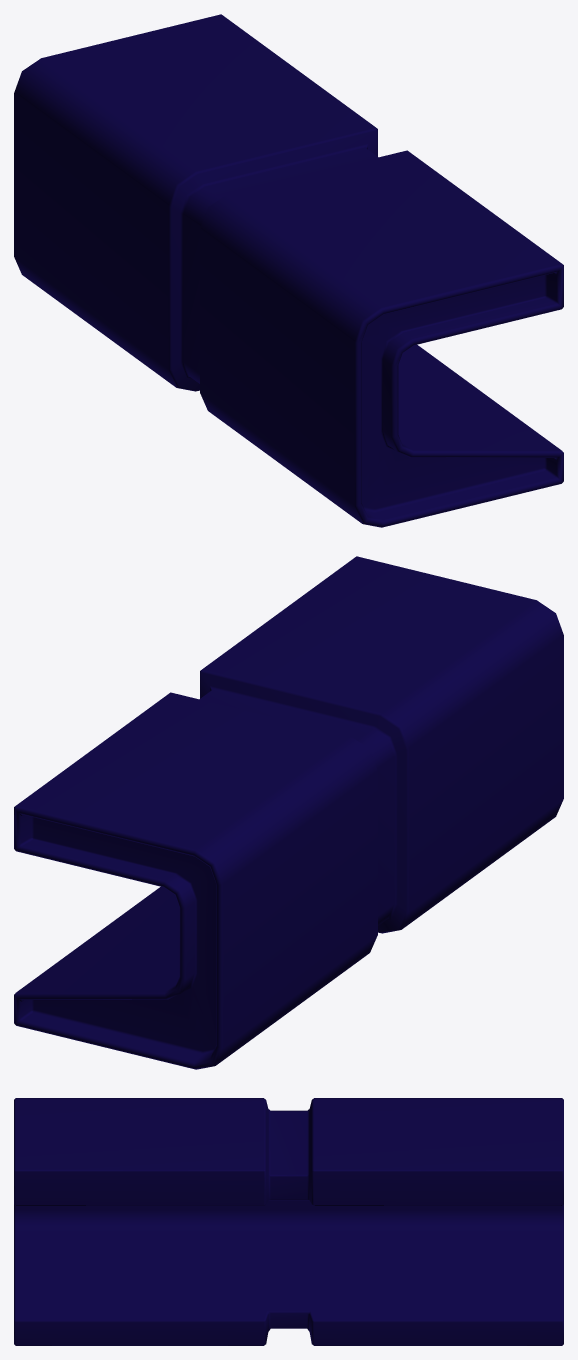
The model's file is Chair.fbx.
3 renders of one model, top to bottom at view 1: azimuth 30°, elevation 25°; view 2: azimuth 150°, elevation 25°; view 3: azimuth 270°, elevation 25°, orthographic. The views are drawn at different scales.
Parts seen in each view (by area): view 1: SM_Chair; view 2: SM_Chair; view 3: SM_Chair.
Boxes of the visible parts, x1,y1,x2,y2 form: SM_Chair: (14,14,563,527); SM_Chair: (14,556,563,1069); SM_Chair: (14,1098,563,1345).
Size of the model in its own units: 0.5001 by 0.5025 by 1.42.
